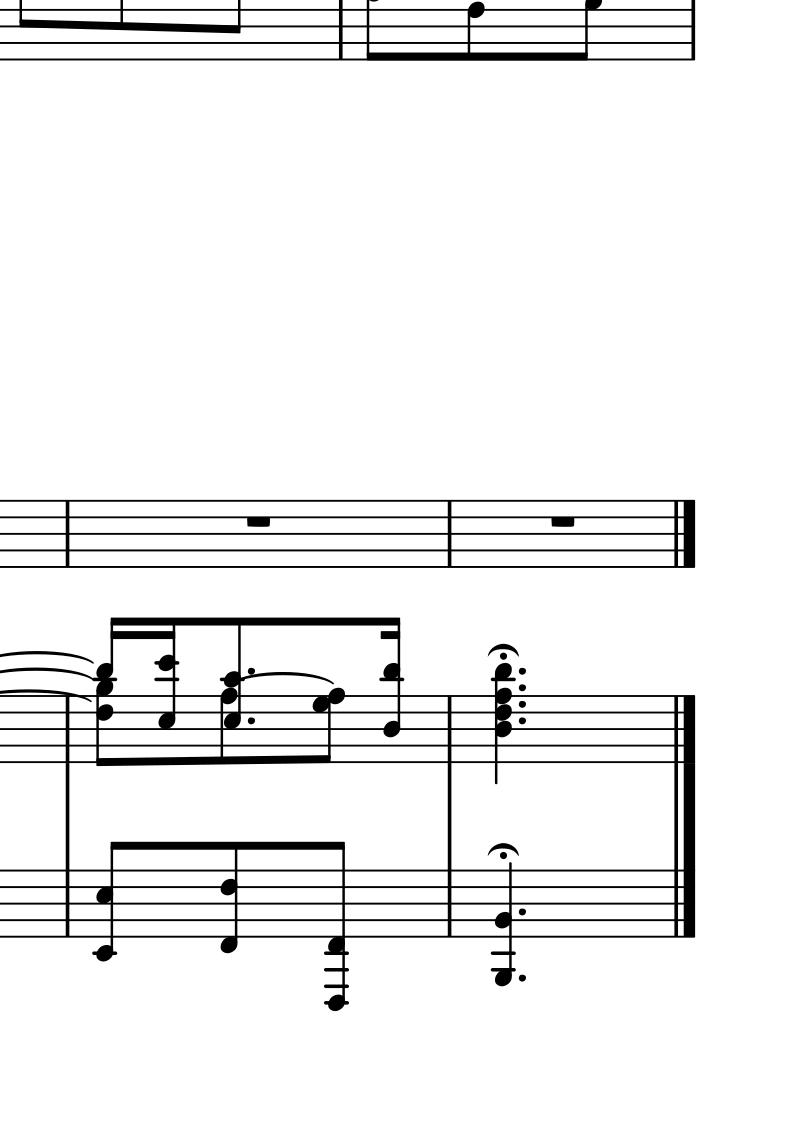16_4_11: (380, 615, 403, 765)
4_-5_2: (491, 861, 517, 987)
4_4th: (491, 661, 516, 785)
8_-1_6: (218, 841, 241, 955)
8_-2_5: (93, 840, 124, 961)
8_-8_-1: (322, 840, 351, 1013)
8_7_8: (312, 688, 346, 765)
Fermata_above: (485, 642, 521, 662), (485, 842, 521, 859)
Final_barline: (670, 868, 697, 939), (670, 695, 697, 764), (672, 499, 698, 569)
Rests1: (542, 511, 587, 535), (238, 511, 275, 531)
Single_barline: (58, 869, 79, 937), (440, 696, 459, 763), (331, 1, 352, 61), (59, 697, 78, 763), (59, 500, 77, 567), (441, 500, 458, 568), (683, 1, 702, 61), (441, 870, 458, 937)
Slur: (232, 671, 337, 687)
dot: (514, 973, 529, 985), (516, 905, 528, 919), (517, 713, 529, 727), (246, 714, 257, 729), (518, 665, 528, 677), (518, 682, 528, 693), (518, 698, 528, 709), (245, 666, 256, 675)
